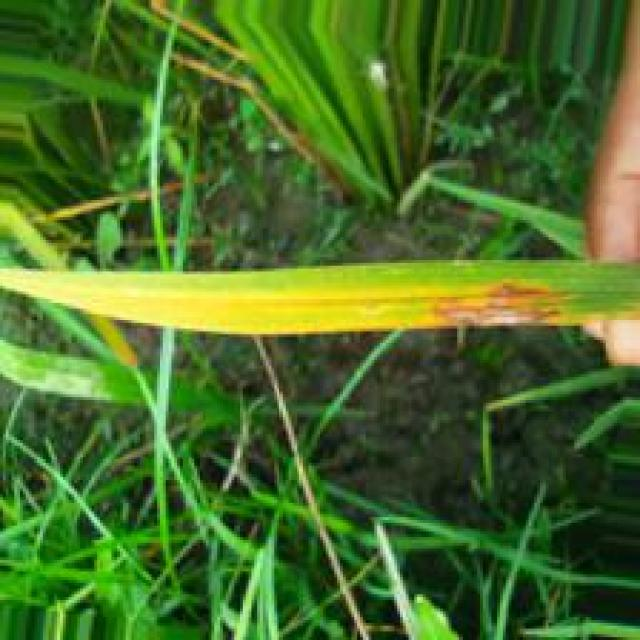Narrow_Brown_Leaf_Spot: (37, 272, 583, 333)
